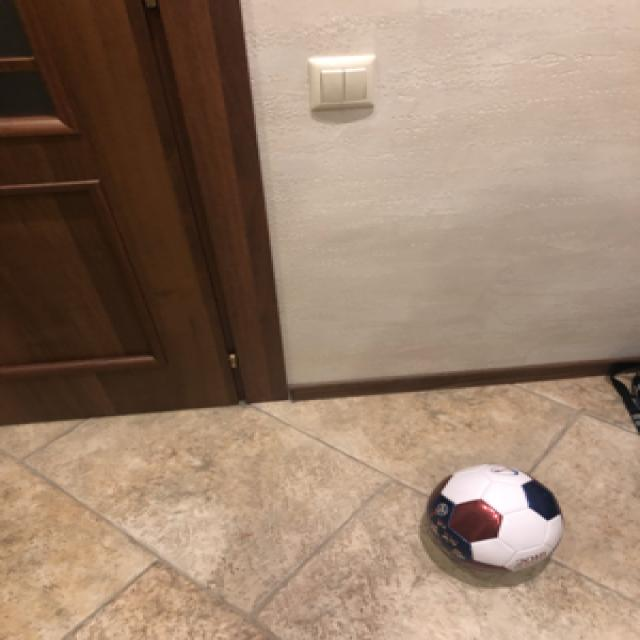soccer_ball: (420, 462, 561, 572)
